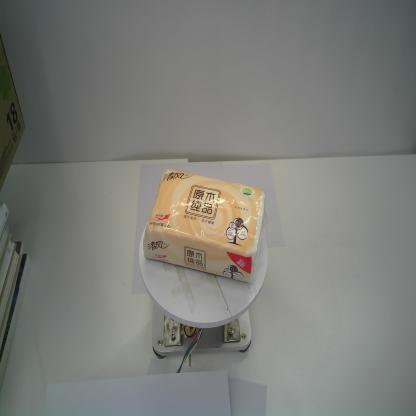Tissue: (143, 167, 267, 284)
